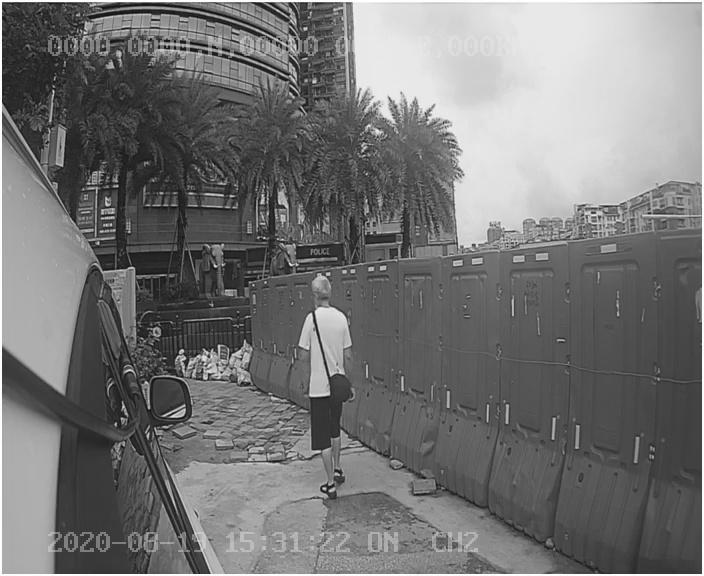person: (287, 274, 379, 497)
